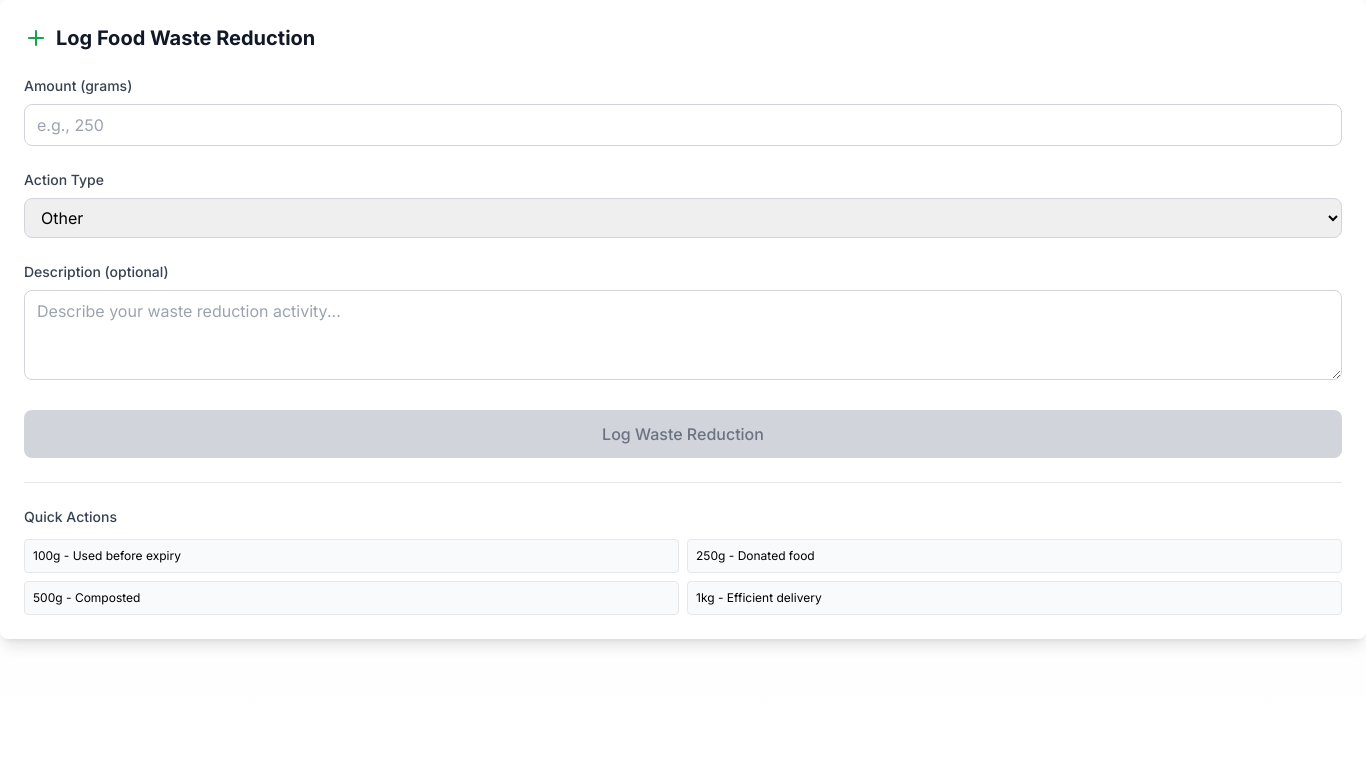
Test case: WasteLogger › should show estimated impact when amount is entered
In the number field labelled "Amount (grams)": (683, 125) [24, 104, 1342, 146], type "1000"
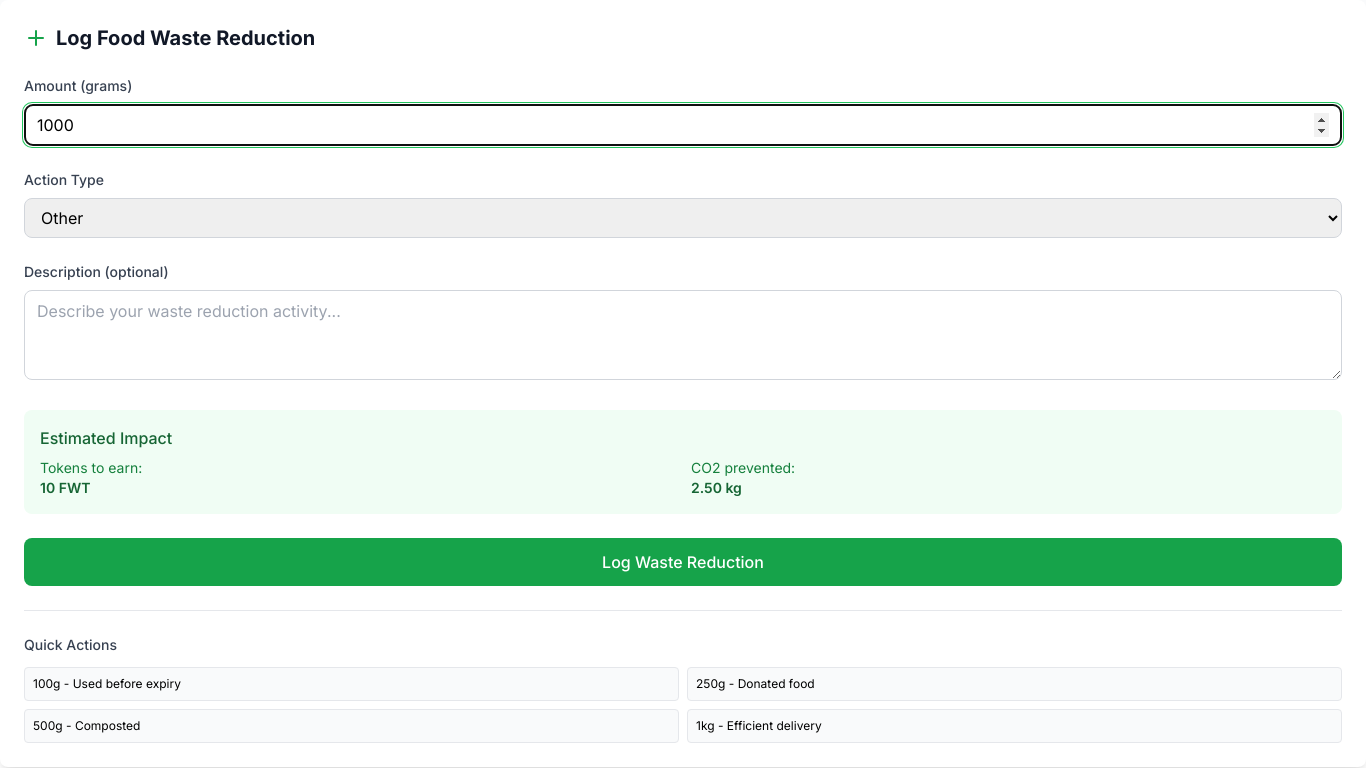
Now the heading "Estimated Impact" is shown, box [40, 428, 172, 448]
Now the text "10 FWT" is shown, box [40, 479, 90, 496]
Now the text "2.50 kg" is shown, box [691, 479, 742, 496]
